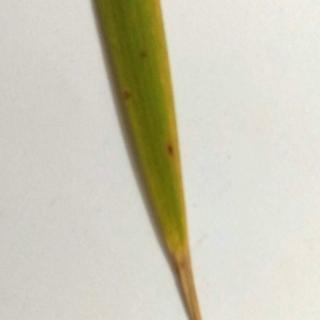bercak-Cokelat: (115, 87, 140, 106), (164, 139, 179, 161)
